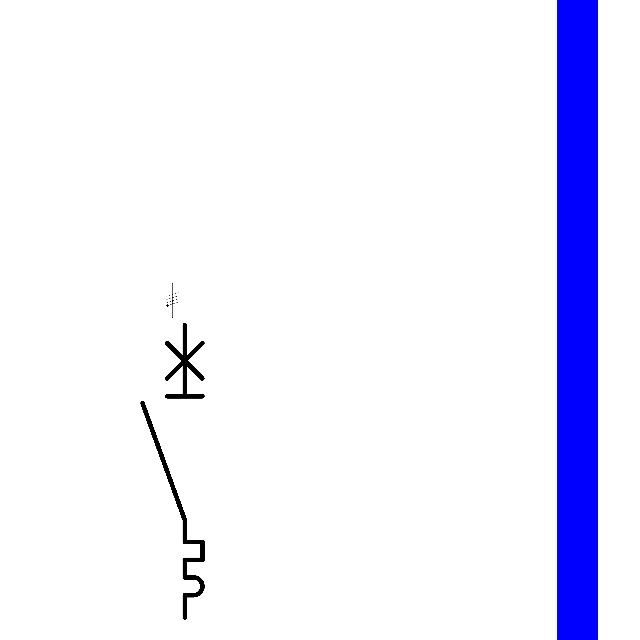interruptor_termomagnetico: (135, 317, 210, 625)
